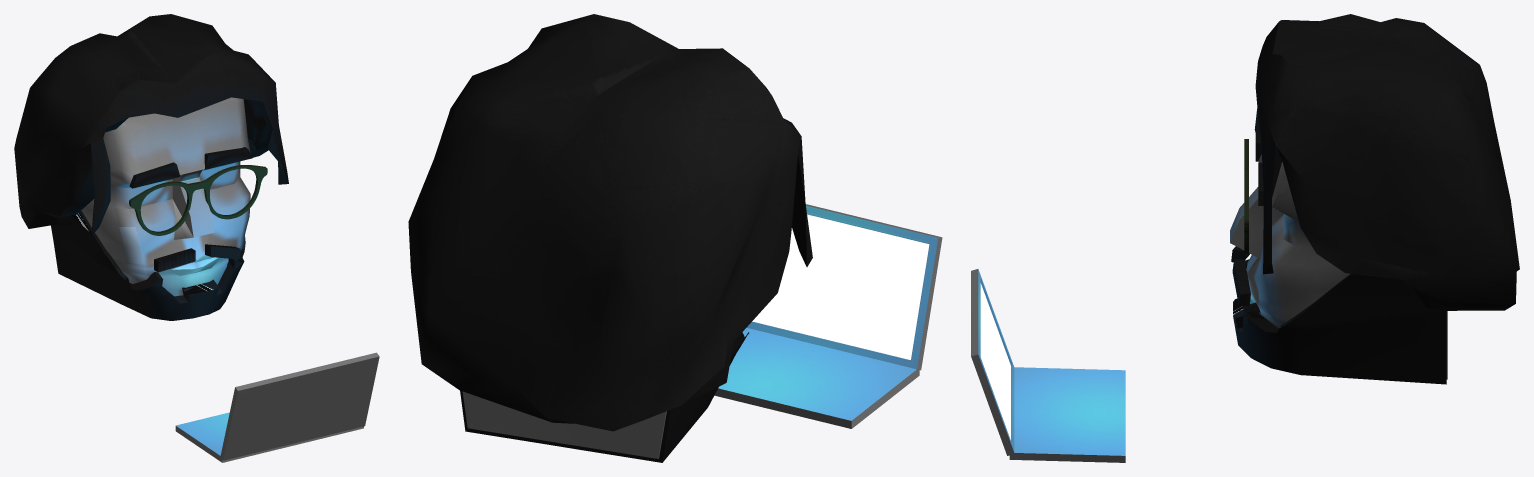
File: modelDraco.gltf
3 views of the same model, side by side, from view 1: azimuth 30°, elevation 25°; view 2: azimuth 150°, elevation 25°; view 3: azimuth 270°, elevation 25° (orthographic). The views are drawn at different scales.
Visible parts, largest first — view 1: tete; view 2: tete, Plane_1; view 3: tete, Plane_1.
Part boxes in pixels (bbox=[...]): tete: bbox=[14, 14, 379, 462]; tete: bbox=[408, 14, 942, 462]; Plane_1: bbox=[752, 214, 929, 359]; tete: bbox=[971, 14, 1519, 462]; Plane_1: bbox=[980, 283, 1010, 439].
Size of the model in its own units: 157 by 222 by 290.
2 materials, 1 textured.
